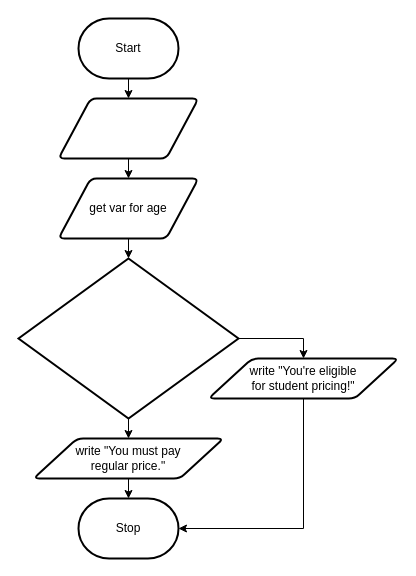
Some shapes in this 416 by 576 pixel diagram are drawn without their labels. The box of each missing label's shape, as (x1, y1, x2, y2) in pixels:
get var for day: (57, 97, 199, 159)
if day == "Tuesday" || day == "Thursday" || age > 12 && age < 21: (17, 257, 239, 419)
